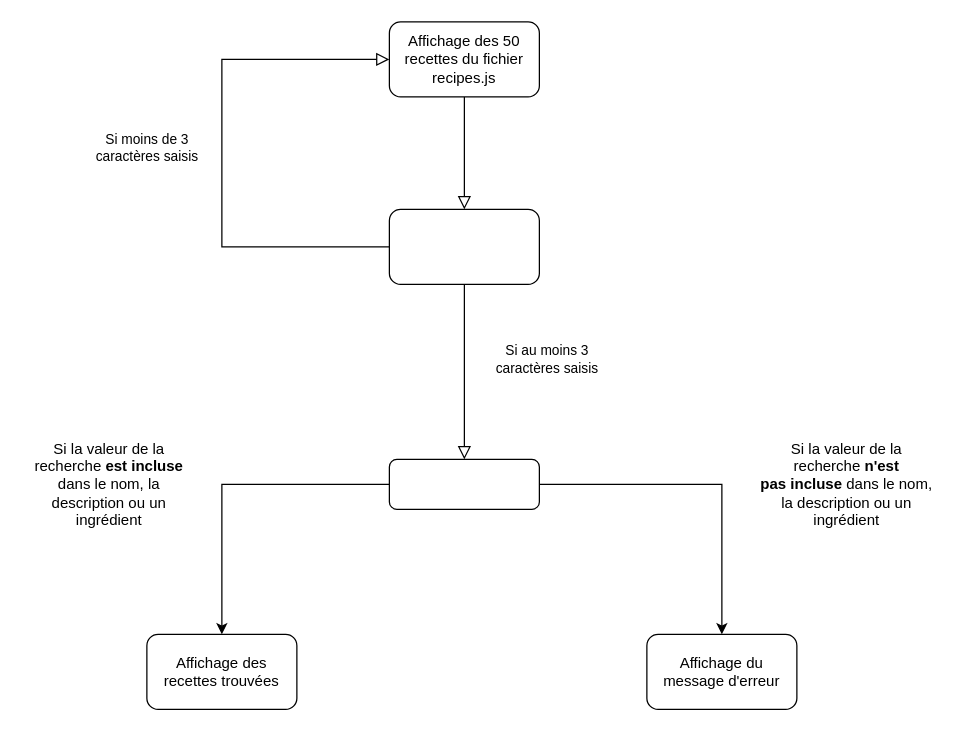
Image size: 955x731. Some labels were removed from this diagram. Here are the shapes that lost their labels. From the top down, the centre of each, then its label:
(463,246): Saisie d'une valeur dans l'input de recherche principale
(463,483): Boucle for()
